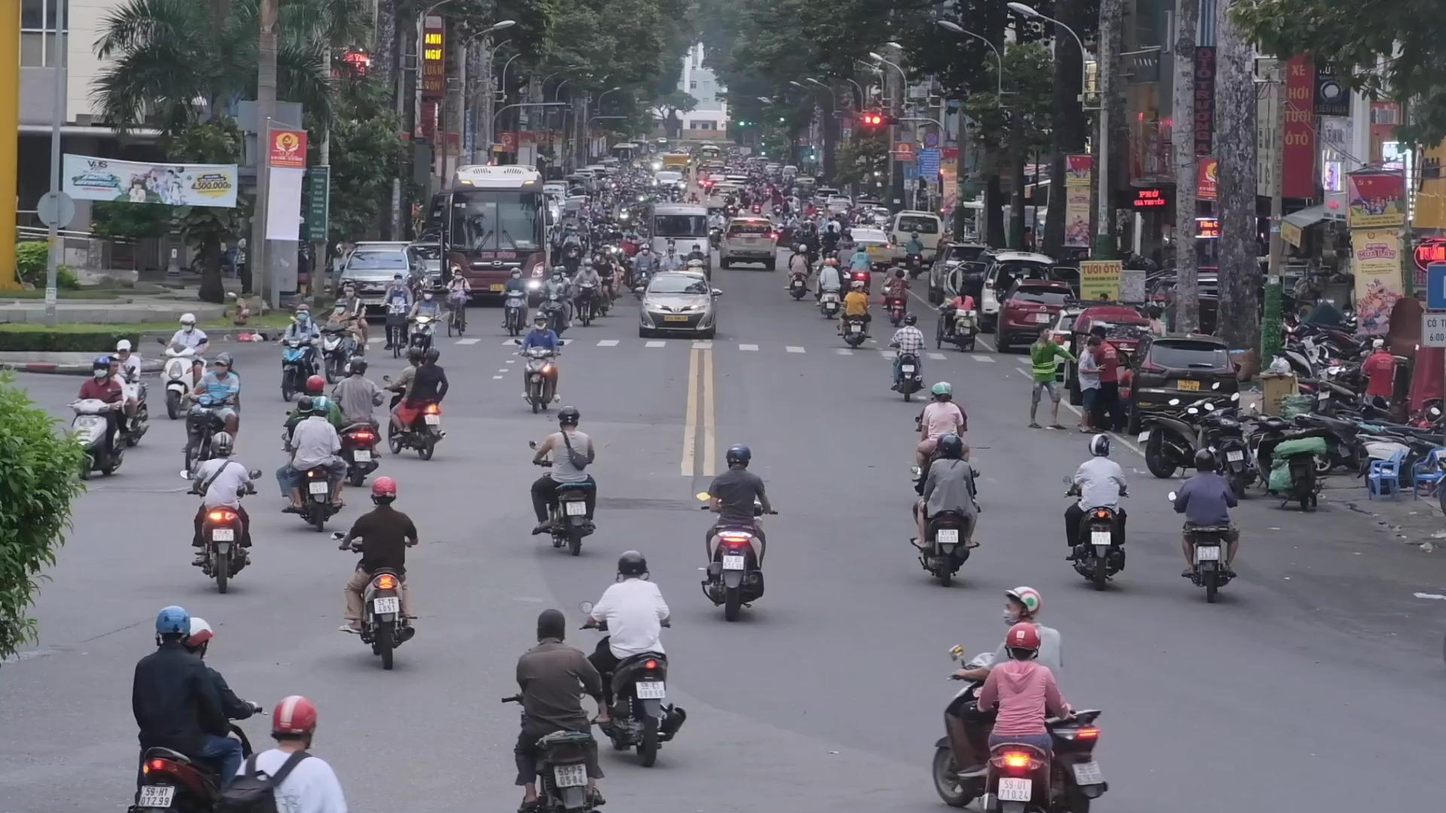bicyclist: (379, 273, 414, 359), (440, 269, 471, 337)
driver: (933, 586, 1109, 813), (130, 605, 269, 813), (578, 551, 686, 769), (501, 609, 612, 813), (969, 621, 1077, 813), (329, 476, 419, 671), (700, 443, 780, 623), (186, 431, 262, 595), (1167, 447, 1240, 604), (276, 374, 347, 532), (910, 433, 981, 588), (1062, 432, 1129, 591), (528, 405, 597, 556), (65, 356, 129, 481), (383, 347, 449, 461), (330, 356, 385, 488), (182, 352, 241, 475), (156, 313, 211, 420), (318, 278, 369, 384), (514, 311, 564, 414), (277, 304, 326, 402), (887, 311, 926, 403), (405, 284, 443, 365), (836, 279, 873, 350), (569, 258, 604, 327), (497, 267, 531, 337), (814, 252, 845, 319), (784, 242, 813, 301), (884, 270, 911, 327)
helmet: (271, 695, 317, 750), (1002, 586, 1043, 627), (155, 604, 190, 647), (180, 617, 213, 660), (1005, 621, 1040, 660), (616, 550, 649, 583), (537, 609, 565, 644), (371, 476, 397, 506), (210, 431, 234, 459), (726, 444, 751, 470), (558, 405, 580, 432), (941, 435, 963, 460), (1088, 433, 1110, 457), (1194, 448, 1216, 472), (349, 357, 369, 378), (93, 356, 110, 379), (931, 382, 949, 403), (306, 375, 324, 396), (313, 396, 330, 417), (179, 314, 197, 333), (297, 396, 313, 416), (296, 304, 311, 323), (534, 311, 548, 331), (904, 311, 917, 326), (423, 285, 434, 301)
no-helmet: (213, 353, 230, 375), (1036, 323, 1051, 341), (1088, 337, 1101, 354), (109, 357, 118, 377)
